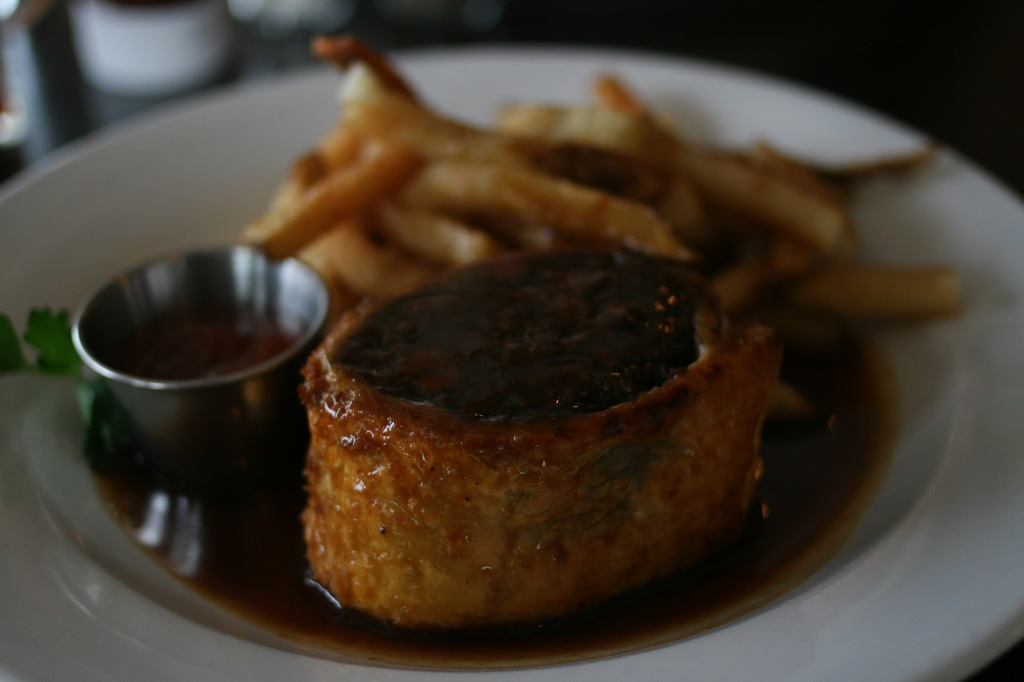French fries: (246, 30, 969, 328)
